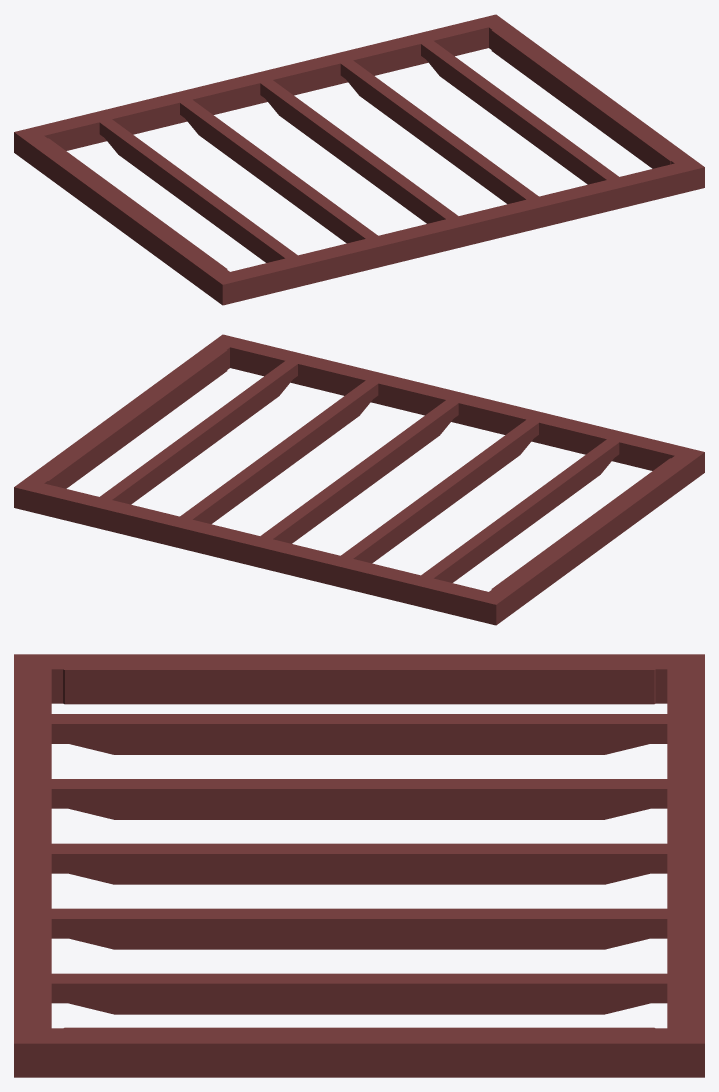
The model's file is Floor frame.obj.
3 renders of one model, top to bottom at view 1: azimuth 30°, elevation 25°; view 2: azimuth 150°, elevation 25°; view 3: azimuth 270°, elevation 25°, orthographic. The views are drawn at different scales.
Visible parts, largest first — view 1: object_9, object_10, object_8, object_7, object_3, object_5, object_2, object_4, object_6; view 2: object_10, object_9, object_8, object_7, object_3, object_5, object_2, object_4, object_6; view 3: object_7, object_8, object_3, object_2, object_6, object_5, object_4, object_10, object_9.
Part boxes in pixels (box(x1,y1,x2,y2)): object_9: box(212, 159, 704, 305); object_10: box(14, 14, 506, 160); object_8: box(25, 135, 230, 297); object_7: box(489, 22, 693, 168); object_3: box(336, 57, 542, 204); object_5: box(95, 116, 301, 262); object_2: box(417, 38, 623, 184); object_4: box(176, 96, 382, 243); object_6: box(259, 79, 459, 223); object_10: box(14, 479, 506, 625); object_9: box(212, 334, 704, 480); object_8: box(488, 455, 693, 617); object_7: box(25, 342, 229, 488); object_3: box(176, 377, 382, 524); object_5: box(417, 436, 623, 582); object_2: box(95, 358, 301, 504); object_4: box(336, 416, 542, 563); object_6: box(259, 399, 459, 543); object_7: box(50, 1027, 668, 1077); object_8: box(50, 654, 668, 704); object_3: box(37, 908, 681, 949); object_2: box(37, 973, 681, 1014); object_6: box(48, 843, 670, 884); object_5: box(37, 714, 681, 754); object_4: box(37, 779, 681, 819); object_10: box(667, 654, 704, 1077); object_9: box(14, 654, 51, 1077).
Bounding box in the file's own units: 4880 × 200 × 3660.
